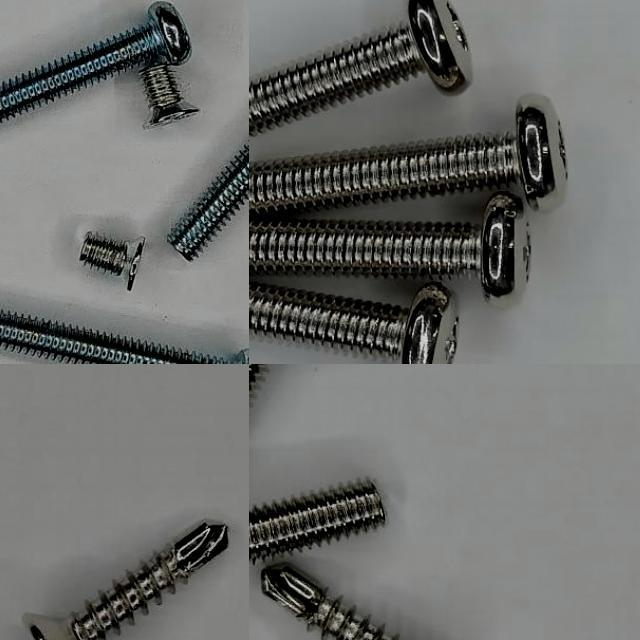Screw: (249, 95, 566, 216), (249, 0, 471, 136), (249, 192, 530, 298), (22, 521, 228, 640), (0, 2, 191, 122), (249, 283, 456, 364), (0, 311, 249, 364), (249, 482, 384, 562), (260, 567, 399, 640), (168, 143, 249, 261), (79, 234, 145, 291), (140, 65, 199, 127)
